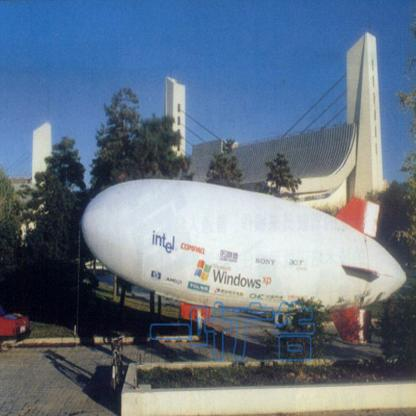Airship: (71, 181, 408, 348)
